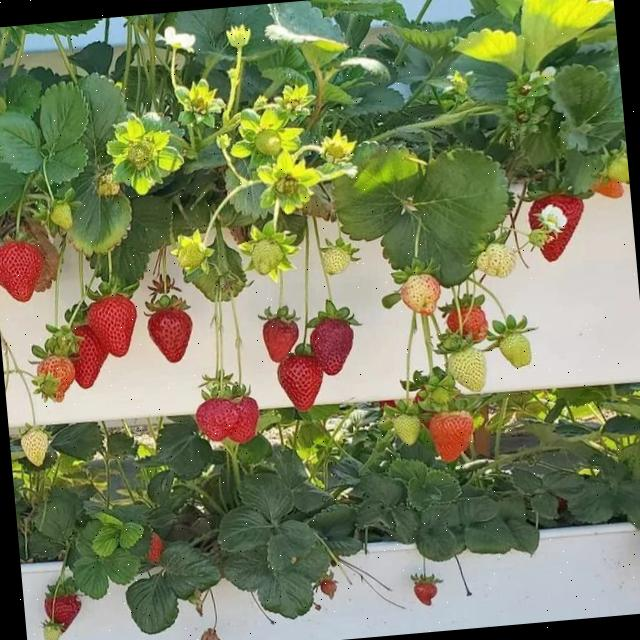Ripe Strawberry: (529, 192, 591, 266), (414, 403, 481, 468), (0, 225, 49, 309), (310, 302, 359, 376), (56, 323, 108, 392), (87, 292, 143, 356), (275, 358, 333, 416), (152, 298, 195, 364), (190, 386, 237, 446), (257, 298, 300, 358), (41, 580, 85, 636), (412, 572, 446, 614), (133, 527, 167, 566), (244, 388, 262, 449), (318, 574, 341, 600)
